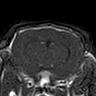Brain: (15, 30, 80, 72)
